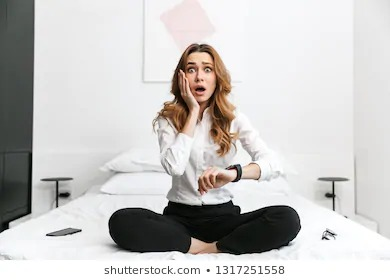F_shirt: (154, 96, 277, 202)
